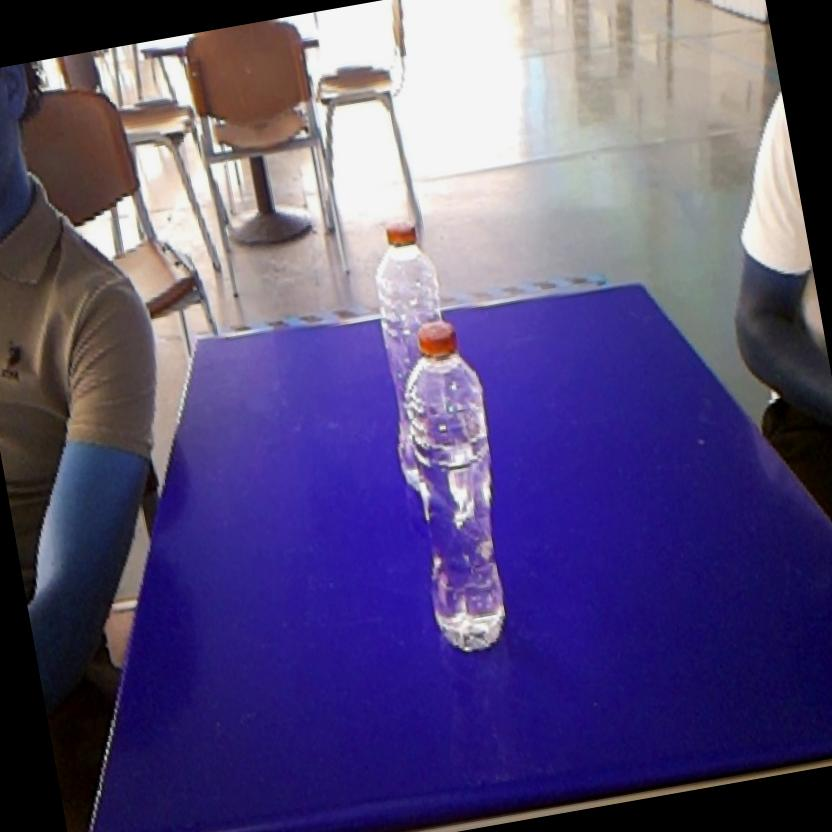no_label: (371, 307, 540, 672), (356, 202, 455, 330)
